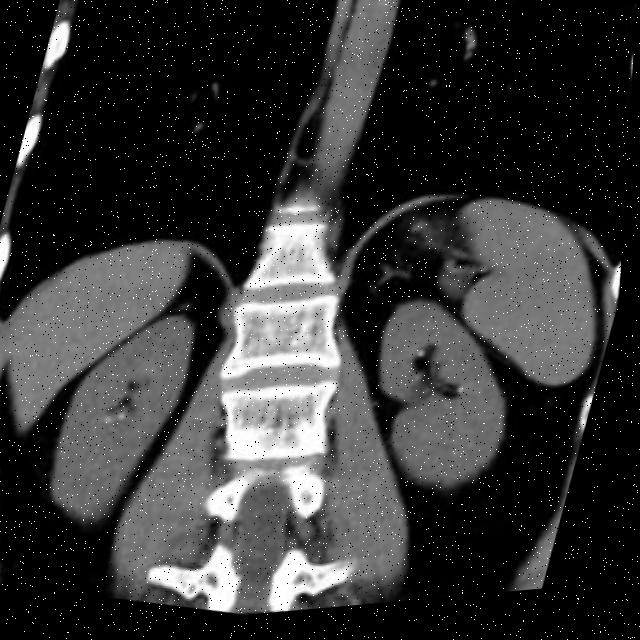Tas_Var: (416, 352, 437, 369), (458, 389, 475, 409), (104, 412, 121, 428), (121, 410, 134, 425)
